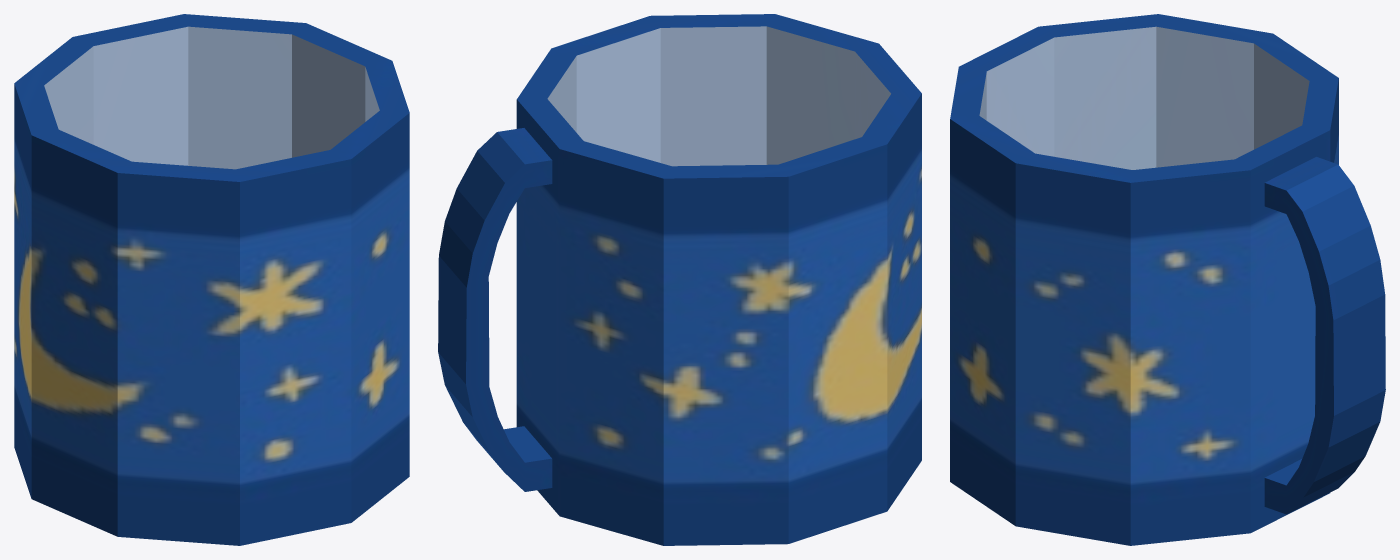
File: Mug(On top of Sink).fbx
3 renders of one model, left to right at view 1: azimuth 30°, elevation 25°; view 2: azimuth 150°, elevation 25°; view 3: azimuth 270°, elevation 25°, orthographic.
Visible parts, largest first — view 1: Cup; view 2: Cup; view 3: Cup.
Part boxes in pixels (bbox=[...]): Cup: bbox=[14, 14, 409, 545]; Cup: bbox=[438, 14, 921, 545]; Cup: bbox=[950, 14, 1385, 545].
Size of the model in its own units: 87.31 by 85.02 by 92.46.
